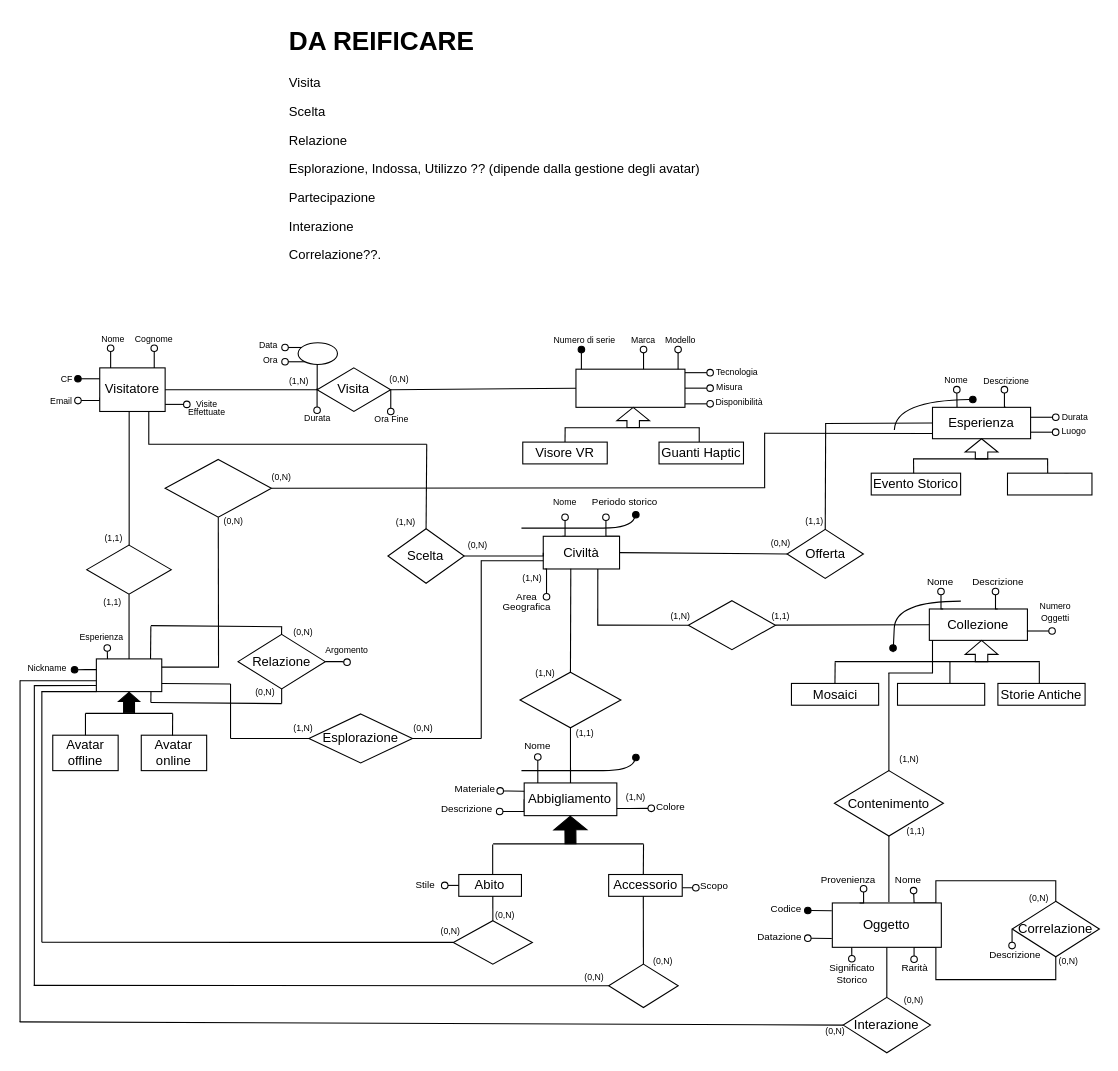
The diagram is 1118 pixels wide and 1071 high, and some of its shapes have lost their labels. Each missing label, with the centre of its shape:
"Appartenenza" goes at point 570,699.
"Avatar" goes at point 128,675.
"Creazione" goes at point 128,569.
"DataVisita" goes at point 317,353.
"Geroglifici" goes at point 940,693.
"Indossa" goes at point 492,942.
"Oggetti Informatici" goes at point 630,387.
"Partecipazione" goes at point 217,487.
"Pertinenza" goes at point 731,625.
"Rivolta" goes at point 1049,483.
"Utilizzo" goes at point 643,985.
